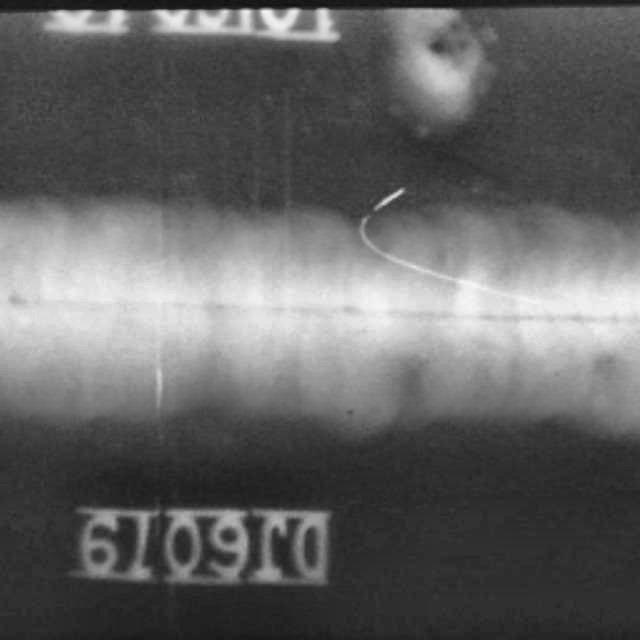LoP-LoF: (5, 270, 640, 358)
